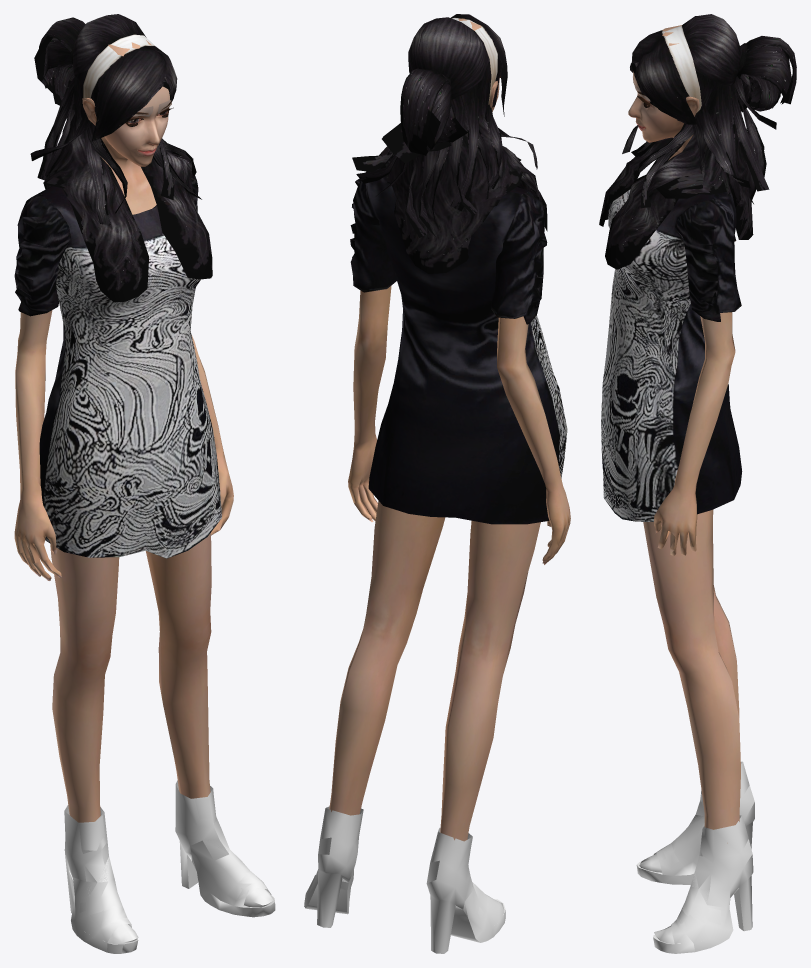
The model's file is girl-brunette.dae.
3 views of the same model, side by side, from view 1: azimuth 30°, elevation 25°; view 2: azimuth 150°, elevation 25°; view 3: azimuth 270°, elevation 25° (orthographic). The views are drawn at different scales.
Visible parts, largest first — view 1: girl_pivot; view 2: girl_pivot; view 3: girl_pivot.
Boxes of the visible parts, x1,y1,x2,y2 form: girl_pivot: [14, 14, 275, 953]; girl_pivot: [304, 14, 570, 953]; girl_pivot: [599, 14, 796, 953].
Bounding box in the file's own units: 0.4334 × 1.51 × 0.31.
10 materials, 8 textured.
